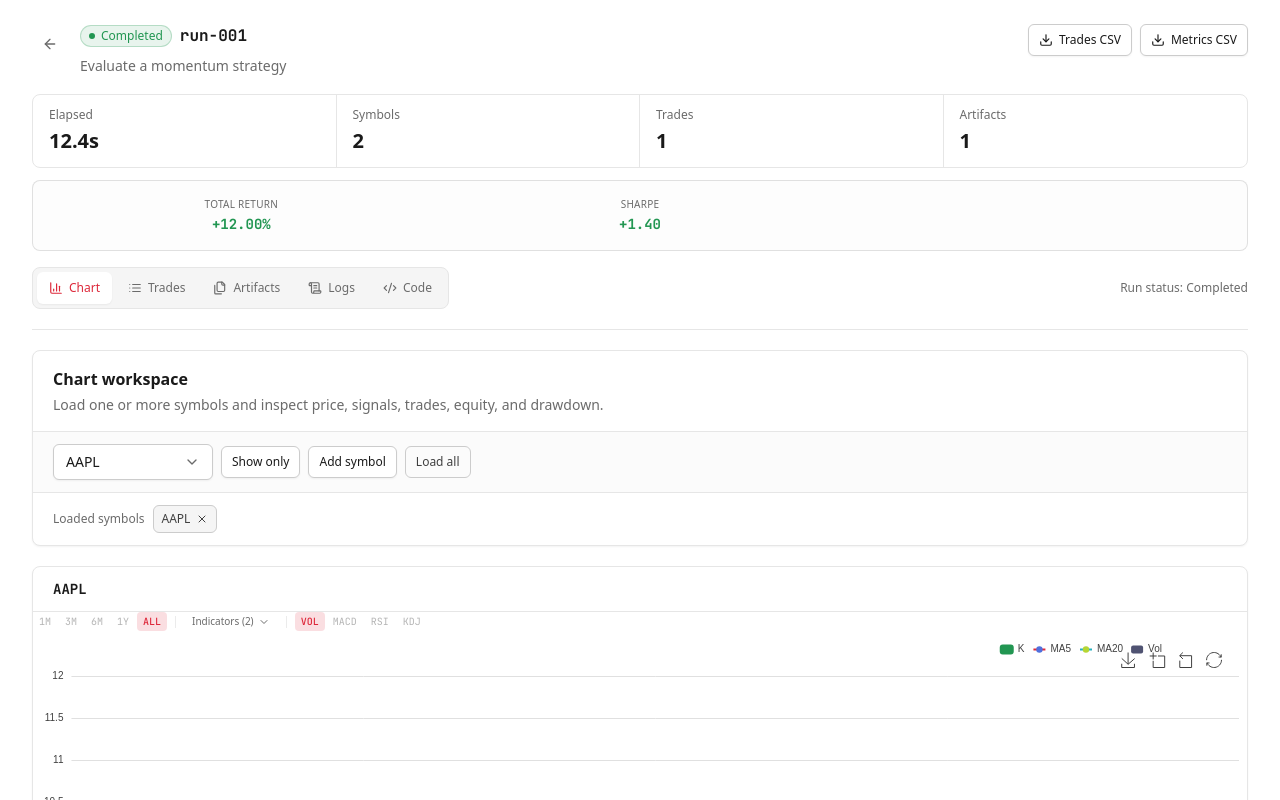
Test: RunDetail workspace › shows the run workspace with floating symbol selection, artifacts, and collapsible logs
The image size is (1280, 800).
Expected: the heading "run-001" is shown, [180,24,247,48]
Expected: the text "Completed" is shown, [101,28,163,44]
What coordinates should you click on to do the following:
click the button with aria-label "Symbol: AAPL"
I would click on:
 (133, 462)
Its box is [53,444,213,480].
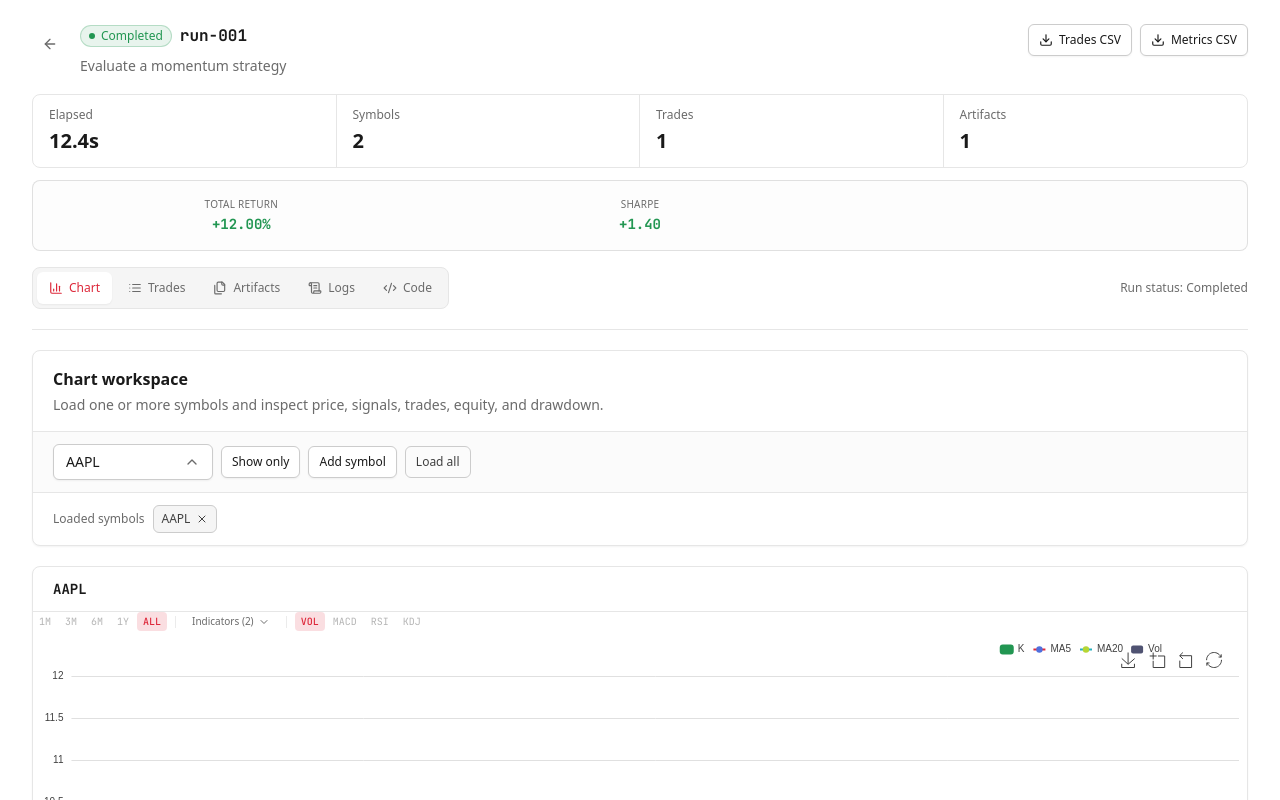
What coordinates should you click on to do the following:
click the tab "Artifacts"
I would click on:
 (247, 288)
Its box is [202,272,292,304].
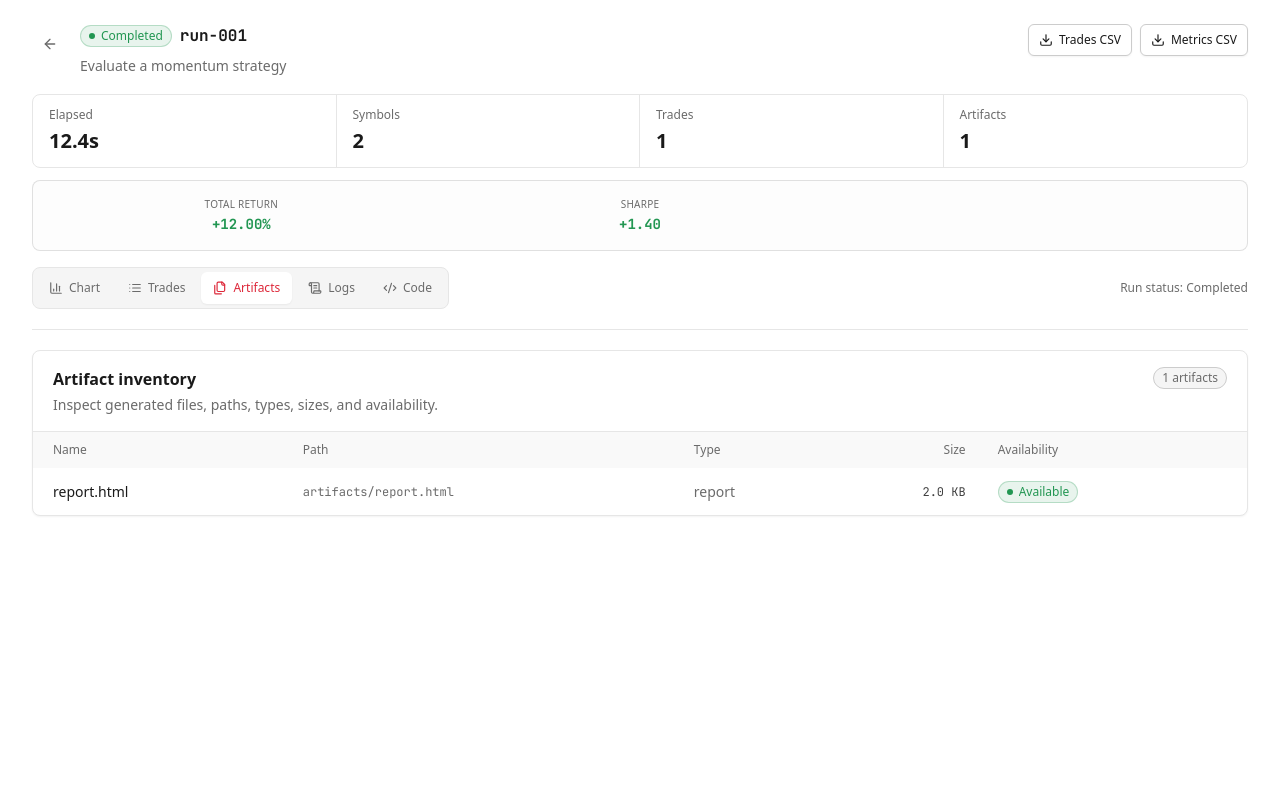
Expected: the heading "Artifact inventory" is shown, [53,368,196,390]
Expected: the text "report.html" is shown, [33,468,291,515]
What coordinates should you click on to do the following:
click the tab "Logs"
I would click on:
 (332, 288)
Its box is [296,272,367,304].
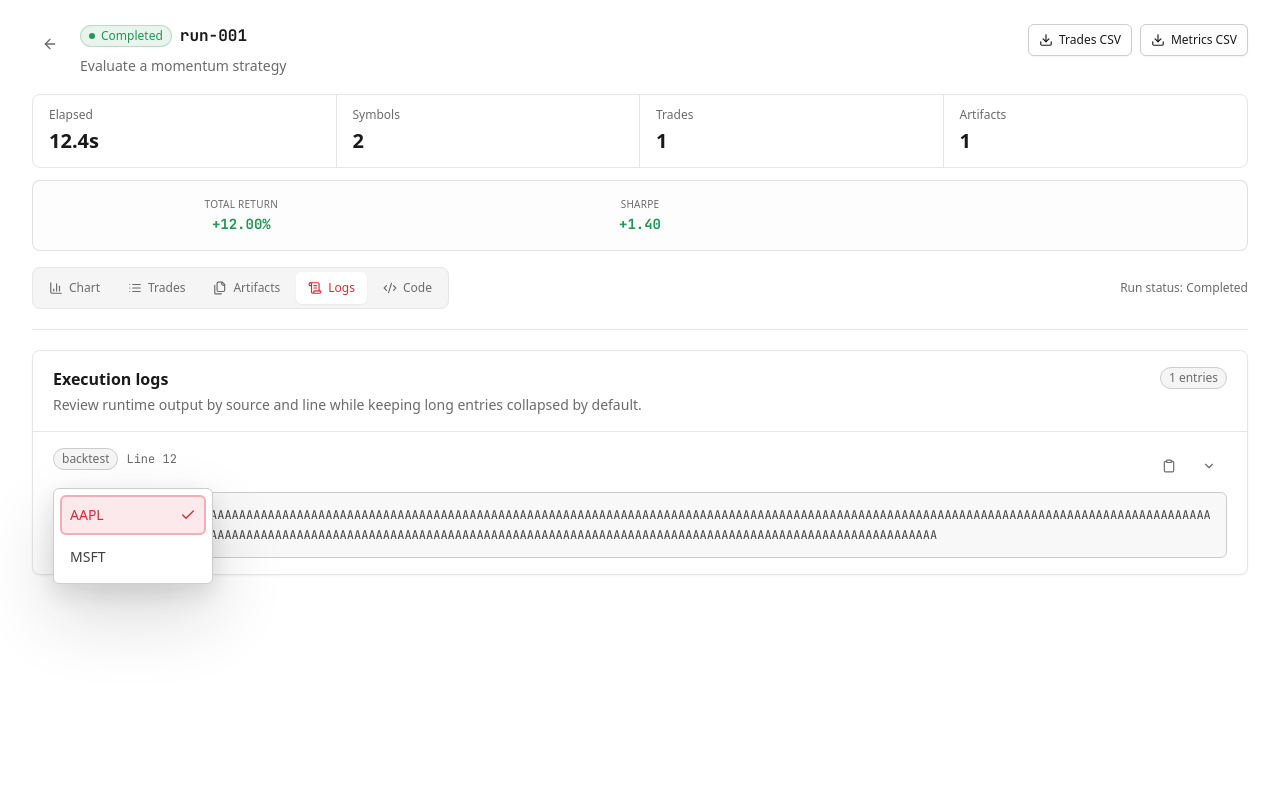
Expected: the heading "Execution logs" is shown, [53,368,168,390]
Expected: the button named "Expand" is shown, [1191,448,1227,484]
